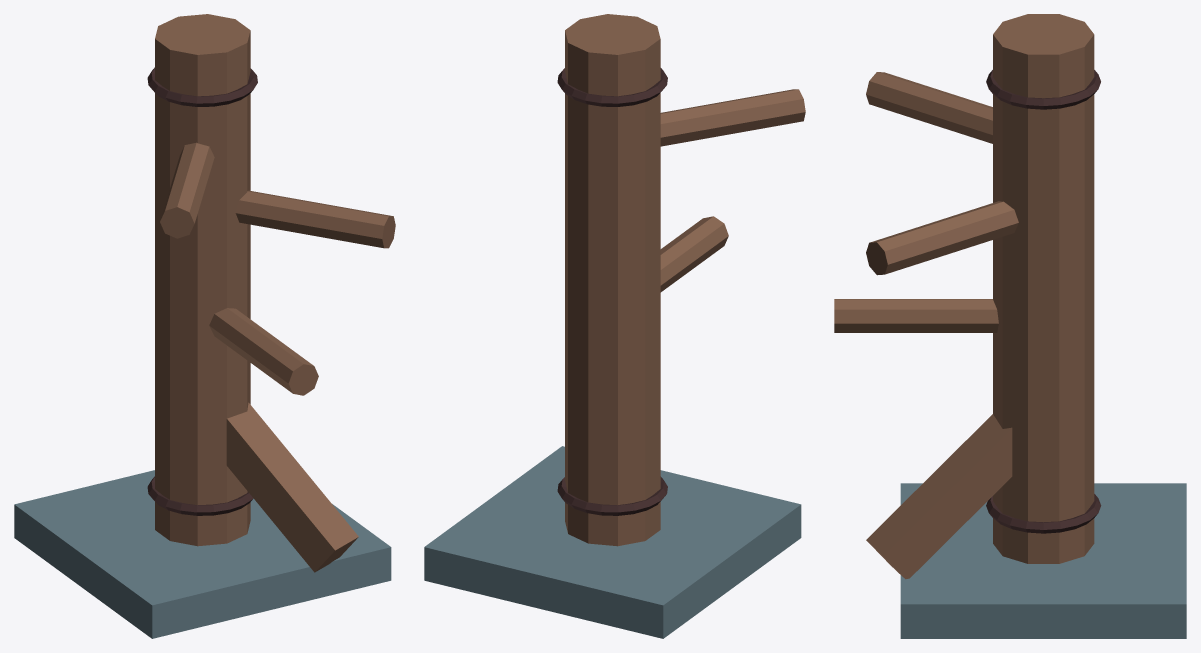
The model's file is arm_dummy.glb.
3 renders of one model, left to right at view 1: azimuth 30°, elevation 25°; view 2: azimuth 150°, elevation 25°; view 3: azimuth 270°, elevation 25°, orthographic. The views are drawn at different scales.
Parts seen in each view (by area): view 1: arm_dummy_Floor, arm_dummy_Stone, arm_dummy_Timber; view 2: arm_dummy_Floor, arm_dummy_Stone, arm_dummy_Timber; view 3: arm_dummy_Floor, arm_dummy_Stone, arm_dummy_Timber.
Boxes of the visible parts, x1,y1,x2,y2 form: arm_dummy_Floor: (155,14,395,572); arm_dummy_Stone: (14,470,391,638); arm_dummy_Timber: (147,67,257,515); arm_dummy_Floor: (565,14,805,546); arm_dummy_Stone: (424,446,801,638); arm_dummy_Timber: (557,68,667,515); arm_dummy_Floor: (834,14,1094,579); arm_dummy_Stone: (900,483,1186,638); arm_dummy_Timber: (986,70,1101,533).
Size of the model in its own units: 0.82 by 1.72 by 1.01.
